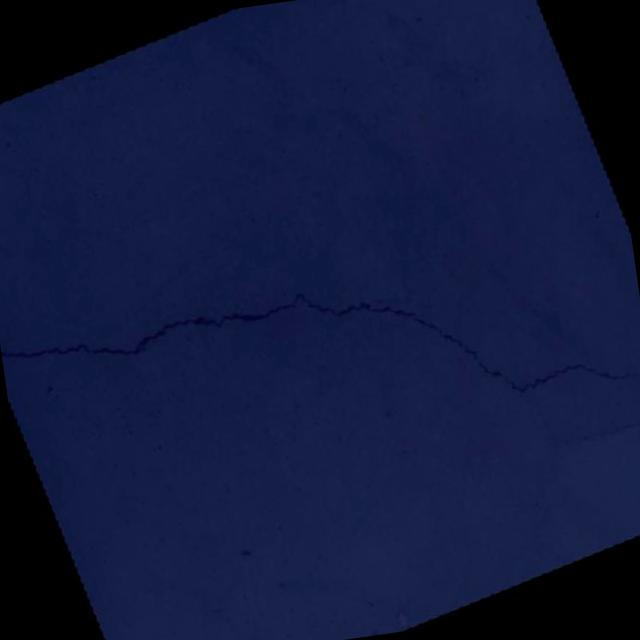crack: (0, 106, 640, 623), (571, 396, 640, 461)
